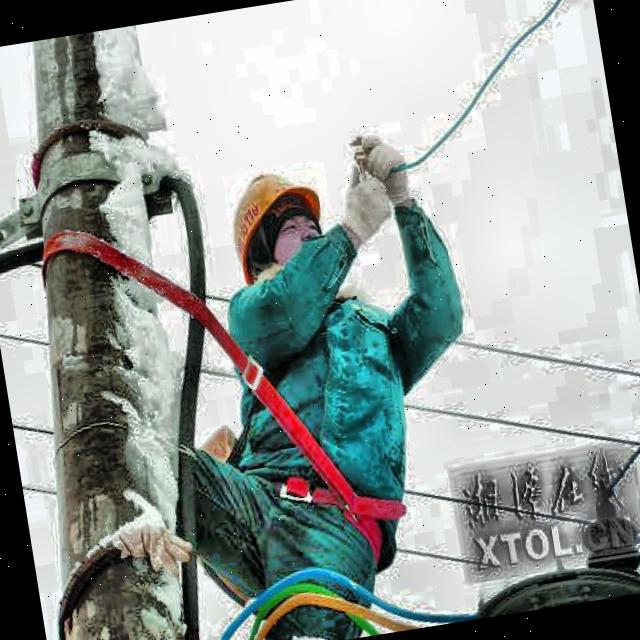helmet: (216, 146, 346, 296)
